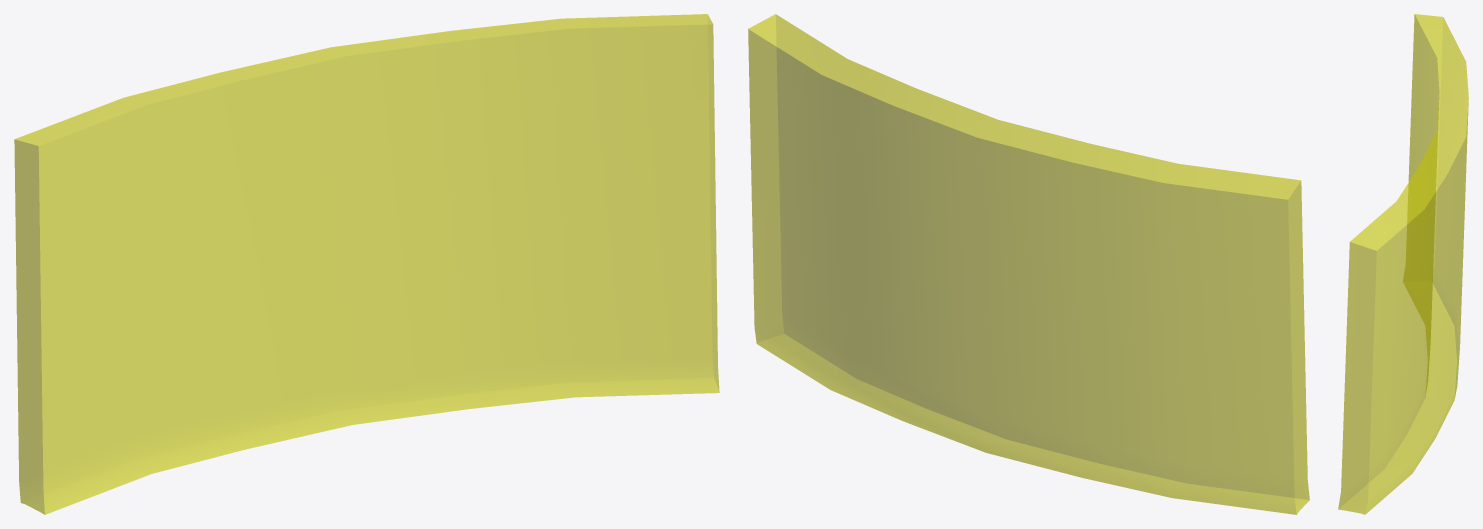
The model's file is display_box_003.fbx.
The picture shows the model from 3 angles, left to right: view 1: azimuth 30°, elevation 25°; view 2: azimuth 150°, elevation 25°; view 3: azimuth 270°, elevation 25°; orthographic projection. The views are drawn at different scales.
Visible parts, largest first — view 1: polySurface5; view 2: polySurface5; view 3: polySurface5.
Boxes of the visible parts, x1,y1,x2,y2 form: polySurface5: (14,14,719,514); polySurface5: (748,14,1309,514); polySurface5: (1338,14,1468,514).
Bounding box in the file's own units: 5.65 × 3.02 × 1.33.
